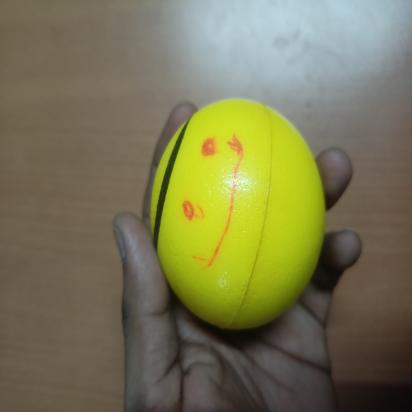Yellowball: (144, 83, 334, 335)
